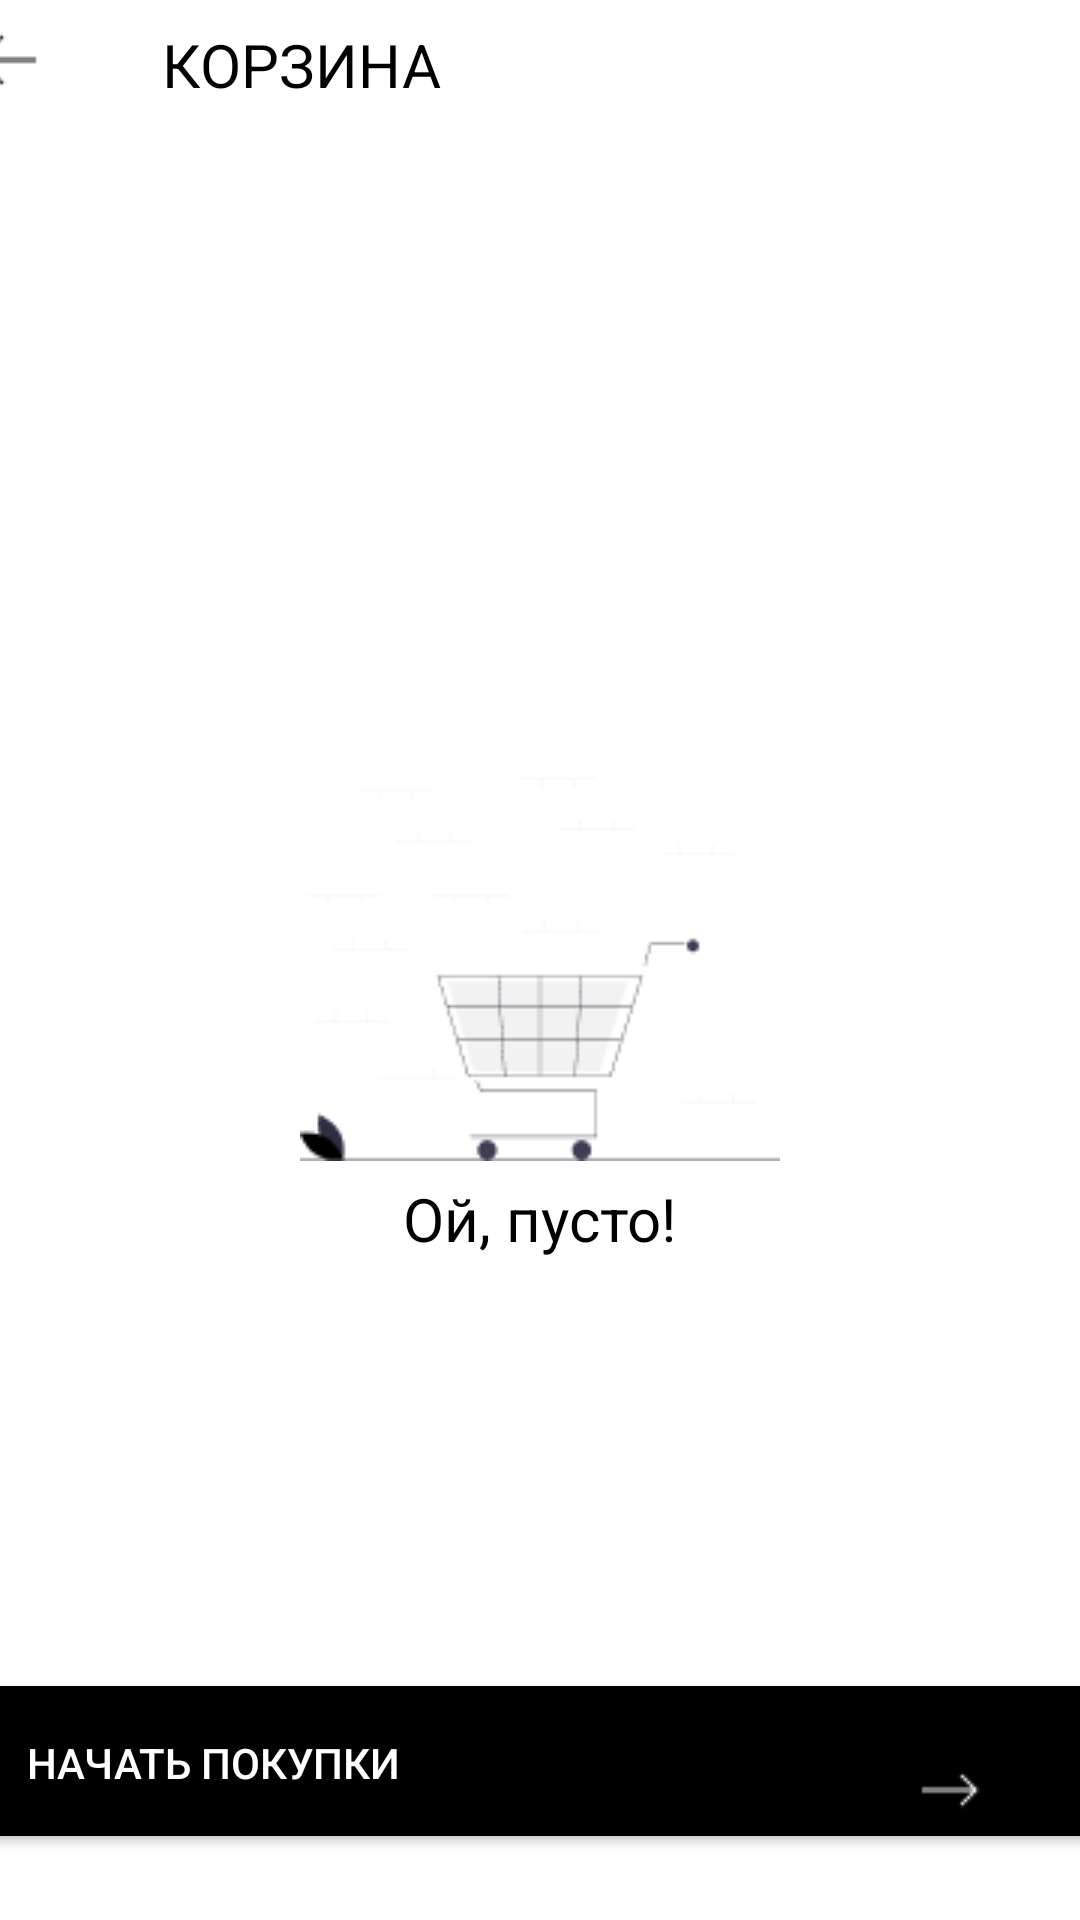

Icon bounding boxes for this 1080 × 1920 phone screenshot, format BBox(x1, y1, x2, y2):
strelka: BBox(921, 1774, 979, 1807)
